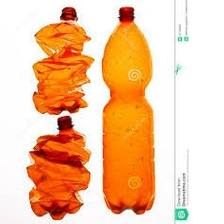bottle: (95, 4, 161, 217), (18, 115, 97, 221), (28, 5, 92, 117)
